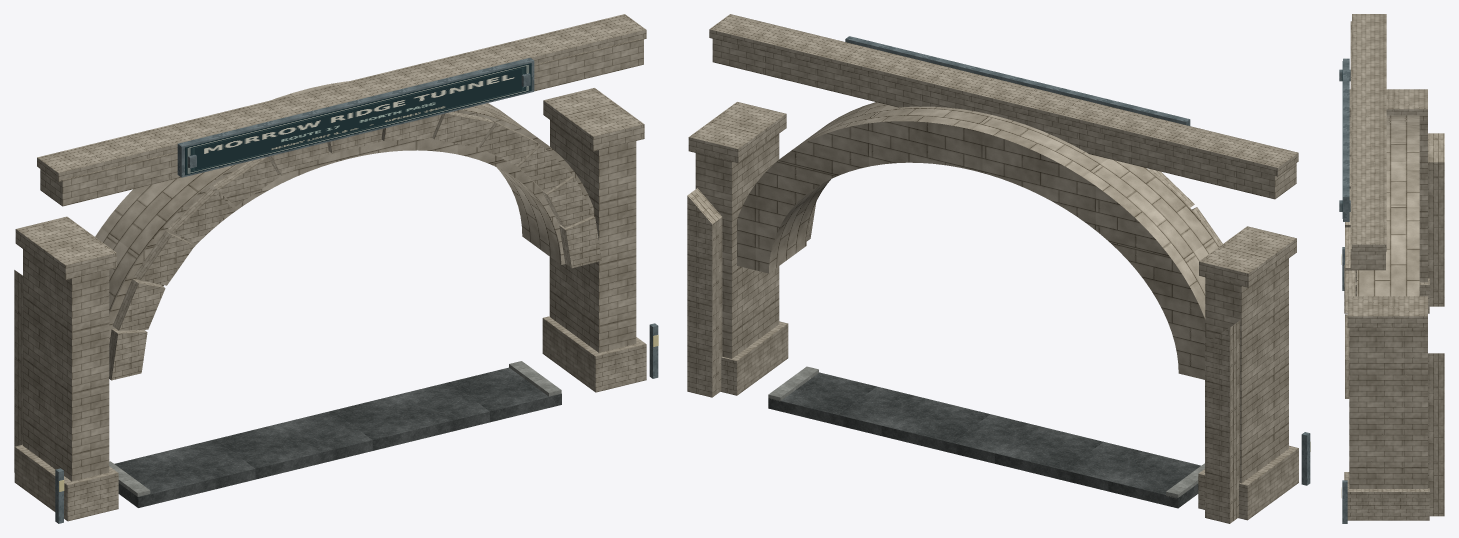
The model's file is PZ_Tunnel_Portal_Standalone.glb.
The picture shows the model from 3 angles, left to right: view 1: azimuth 30°, elevation 25°; view 2: azimuth 150°, elevation 25°; view 3: azimuth 270°, elevation 25°; orthographic projection. The views are drawn at different scales.
Parts seen in each view (by area): view 1: PORTAL_Apron_Pavement, PORTAL_Pier_L, PORTAL_ParapetCrown, PORTAL_Face_StoneArch, PORTAL_Pier_R, PORTAL_Sign_MORROW_RIDGE, PORTAL_FasciaBeam, PORTAL_PierBase_R, PORTAL_PierCap_R, PORTAL_PierCap_L, PORTAL_PierBase_L, PORTAL_SignBacking (+13 smaller); view 2: PORTAL_Face_StoneArch, PORTAL_Apron_Pavement, PORTAL_ParapetCrown, PORTAL_FasciaBeam, PORTAL_Pier_L, PORTAL_Pier_R, PORTAL_ReturnWing_R, PORTAL_ReturnWing_L, PORTAL_PierCap_R, PORTAL_PierCap_L, PORTAL_PierBase_L, PORTAL_PierBase_R (+1 smaller); view 3: PORTAL_Pier_R, PORTAL_ParapetCrown, PORTAL_Face_StoneArch, PORTAL_ReturnWing_L, PORTAL_ReturnWing_R, PORTAL_PierBase_R, PORTAL_PierCap_R, PORTAL_Pier_L, PORTAL_PierCap_L, PORTAL_FasciaBeam, PORTAL_SignBacking, PORTAL_Voussoir_03 (+6 smaller).
Part boxes in pixels (box(x1,y1,x2,y2)): PORTAL_Apron_Pavement: box(114, 367, 561, 507); PORTAL_Pier_L: box(23, 249, 109, 481); PORTAL_ParapetCrown: box(37, 14, 646, 182); PORTAL_Face_StoneArch: box(95, 81, 594, 343); PORTAL_Pier_R: box(550, 120, 636, 352); PORTAL_Sign_MORROW_RIDGE: box(185, 63, 531, 175); PORTAL_FasciaBeam: box(40, 38, 643, 206); PORTAL_PierBase_R: box(542, 316, 646, 392); PORTAL_PierCap_R: box(543, 88, 644, 151); PORTAL_PierCap_L: box(15, 216, 116, 279); PORTAL_PierBase_L: box(14, 444, 118, 521); PORTAL_SignBacking: box(177, 58, 534, 177); PORTAL_Face_StoneArch: box(737, 102, 1219, 379); PORTAL_Apron_Pavement: box(768, 372, 1200, 508); PORTAL_ParapetCrown: box(709, 14, 1298, 176); PORTAL_FasciaBeam: box(712, 39, 1296, 199); PORTAL_Pier_L: box(1205, 258, 1288, 483); PORTAL_Pier_R: box(695, 134, 779, 358); PORTAL_ReturnWing_R: box(687, 188, 722, 397); PORTAL_ReturnWing_L: box(1205, 320, 1239, 523); PORTAL_PierCap_R: box(688, 102, 786, 163); PORTAL_PierCap_L: box(1199, 226, 1296, 287); PORTAL_PierBase_L: box(1198, 445, 1298, 520); PORTAL_PierBase_R: box(720, 321, 788, 395); PORTAL_Pier_R: box(1349, 328, 1427, 488); PORTAL_ParapetCrown: box(1352, 14, 1386, 251); PORTAL_Face_StoneArch: box(1357, 115, 1419, 296); PORTAL_ReturnWing_L: box(1428, 133, 1444, 306); PORTAL_ReturnWing_R: box(1428, 353, 1444, 516); PORTAL_PierBase_R: box(1344, 472, 1429, 520); PORTAL_PierCap_R: box(1347, 296, 1427, 327); PORTAL_Pier_L: box(1355, 121, 1427, 282); PORTAL_PierCap_L: box(1349, 89, 1427, 121); PORTAL_FasciaBeam: box(1350, 21, 1385, 270); PORTAL_SignBacking: box(1343, 58, 1349, 221); PORTAL_Voussoir_03: box(1345, 270, 1355, 312).
Bounding box in the file's own units: 13.3 × 7.6 × 2.52.
Materials: 6 (6 with a texture image).
